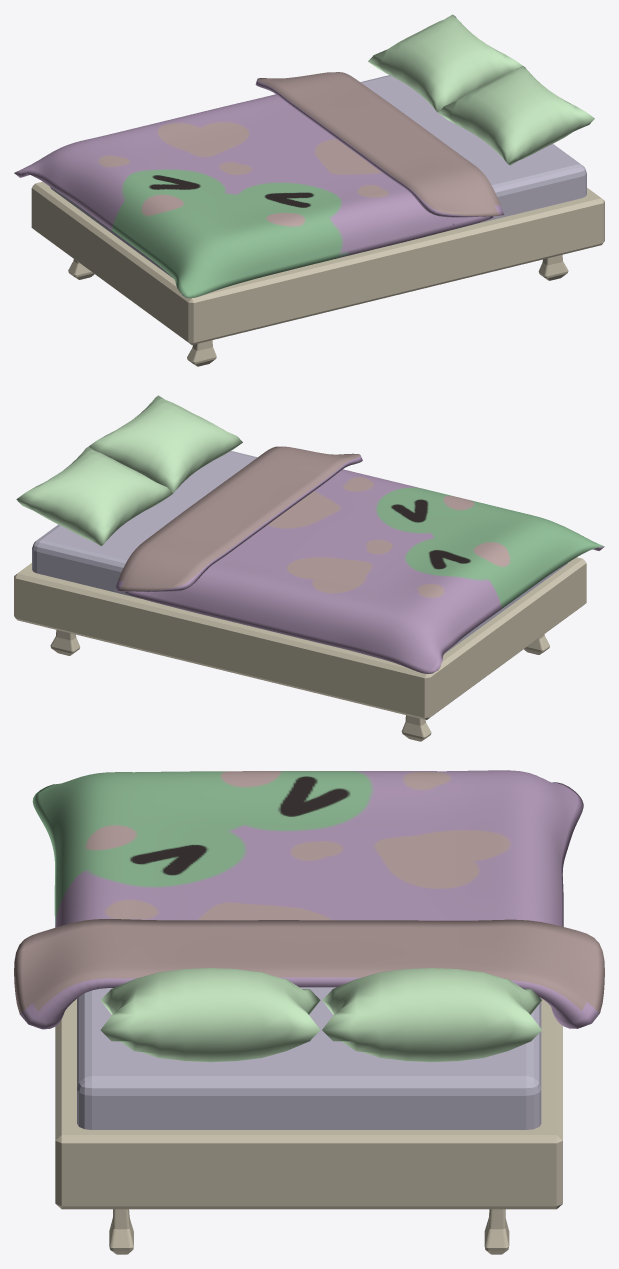
The model's file is Bed.fbx.
3 views of the same model, one above another, from view 1: azimuth 30°, elevation 25°; view 2: azimuth 150°, elevation 25°; view 3: azimuth 270°, elevation 25° (orthographic). The views are drawn at different scales.
Visible parts, largest first — view 1: BedBase; view 2: BedBase; view 3: BedBase.
Boxes of the visible parts, x1=… form: BedBase: x1=14, y1=14, x2=604, y2=366; BedBase: x1=14, y1=395, x2=604, y2=741; BedBase: x1=14, y1=770, x2=604, y2=1254.
Size of the model in its own units: 5.5 by 4.12 by 2.09.
